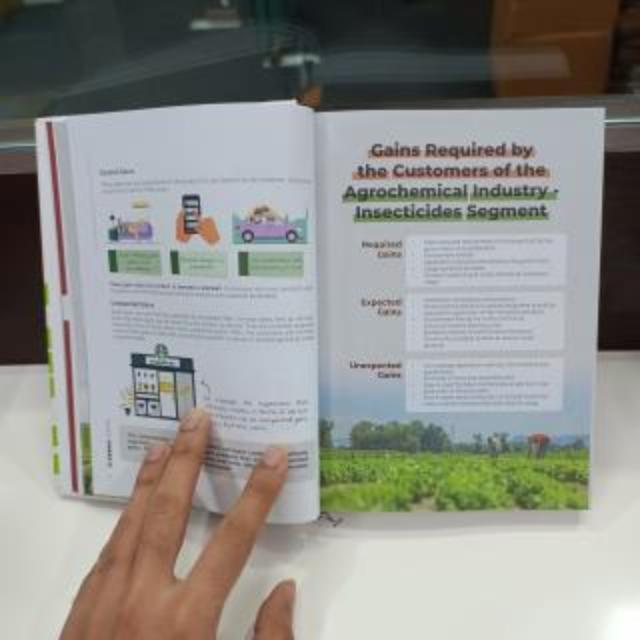book: (28, 92, 612, 528)
